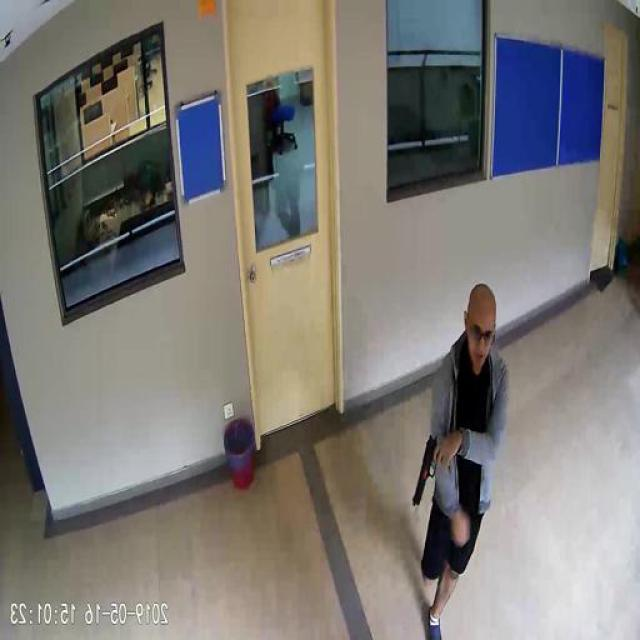Gun: (416, 432, 450, 502)
